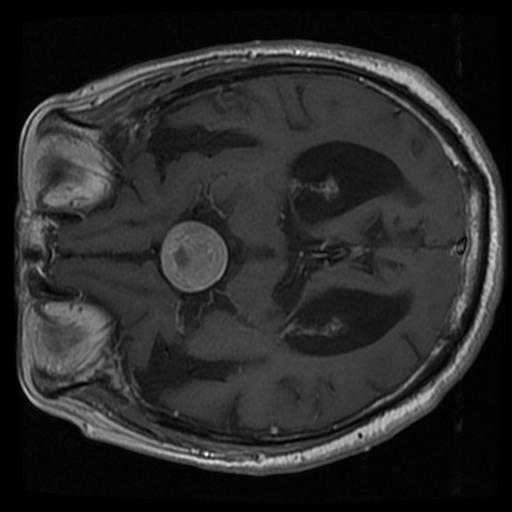pituitary tumour: (159, 221, 228, 291)
